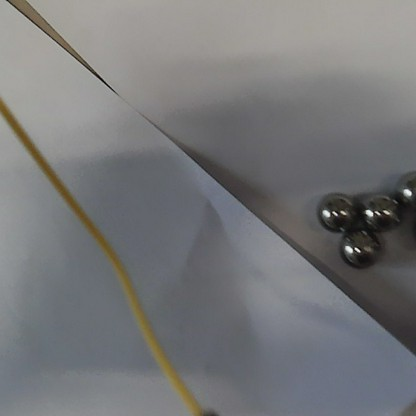ironball: (363, 192, 397, 233), (318, 192, 354, 230), (342, 232, 376, 269), (401, 177, 414, 209)
